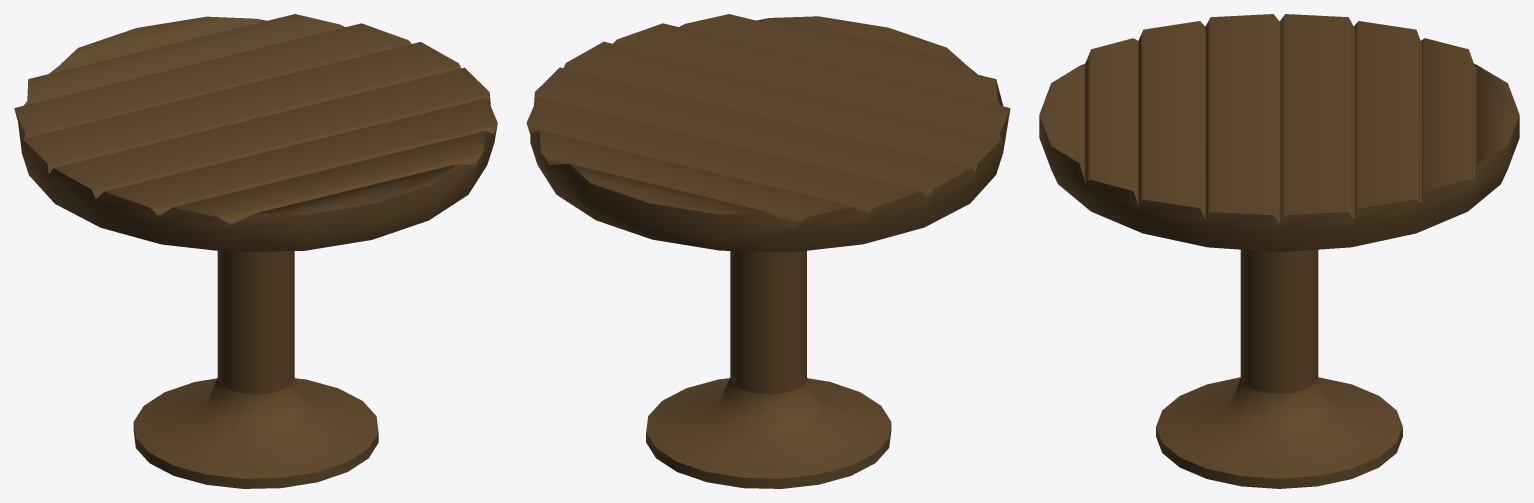
File: Chair.fbx
3 views of the same model, side by side, from view 1: azimuth 30°, elevation 25°; view 2: azimuth 150°, elevation 25°; view 3: azimuth 270°, elevation 25° (orthographic).
Parts seen in each view (by area): view 1: pasted__pCylinder4; view 2: pasted__pCylinder4; view 3: pasted__pCylinder4.
Part boxes in pixels (bbox=[...]): pasted__pCylinder4: bbox=[14, 14, 497, 488]; pasted__pCylinder4: bbox=[526, 14, 1010, 488]; pasted__pCylinder4: bbox=[1039, 14, 1519, 488].
Size of the model in its own units: 3.64 by 2.7 by 3.64.
